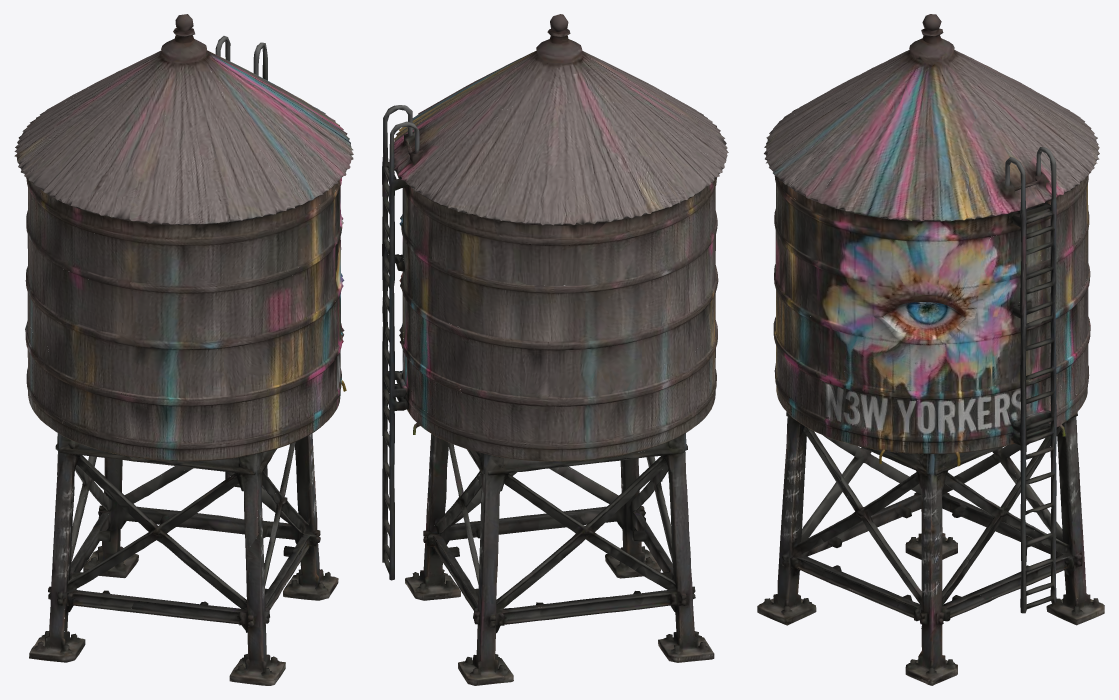
Rendered from marks_tower.glb.
3 renders of one model, left to right at view 1: azimuth 30°, elevation 25°; view 2: azimuth 150°, elevation 25°; view 3: azimuth 270°, elevation 25°, orthographic.
Parts seen in each view (by area): view 1: tripo_node_6ada89a9-3182-4733-ac78-08af0c40e6a4; view 2: tripo_node_6ada89a9-3182-4733-ac78-08af0c40e6a4; view 3: tripo_node_6ada89a9-3182-4733-ac78-08af0c40e6a4.
Part boxes in pixels (x1,y1,x2,y2): tripo_node_6ada89a9-3182-4733-ac78-08af0c40e6a4: [14, 14, 353, 685]; tripo_node_6ada89a9-3182-4733-ac78-08af0c40e6a4: [382, 14, 728, 685]; tripo_node_6ada89a9-3182-4733-ac78-08af0c40e6a4: [757, 14, 1104, 685].
Bounding box in the file's own units: 0.5326 × 1 × 0.5262.
Materials: 1 (1 with a texture image).
